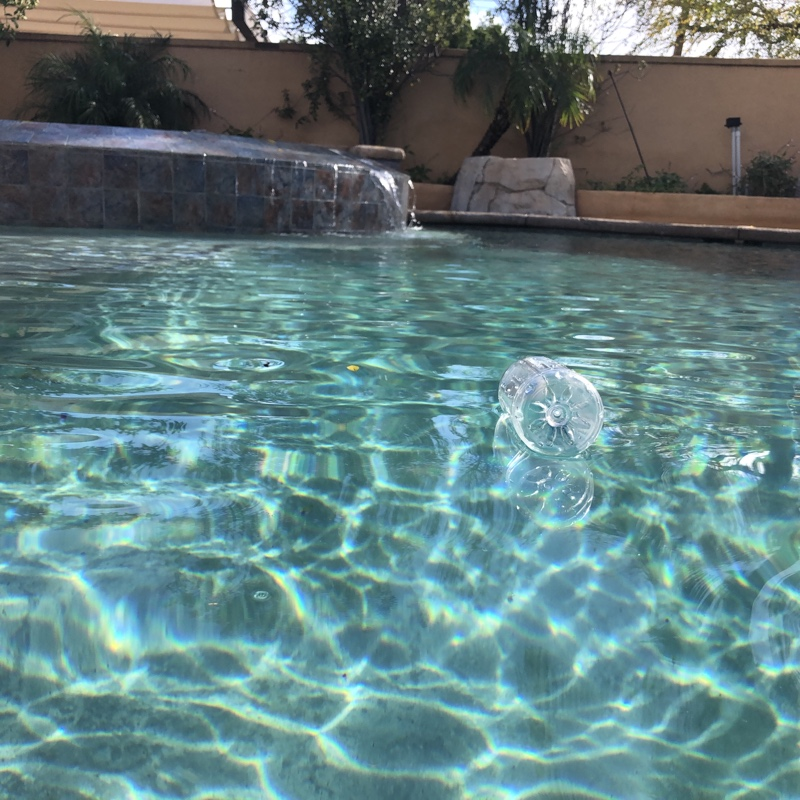Plastic Bottle: (496, 350, 608, 460)
